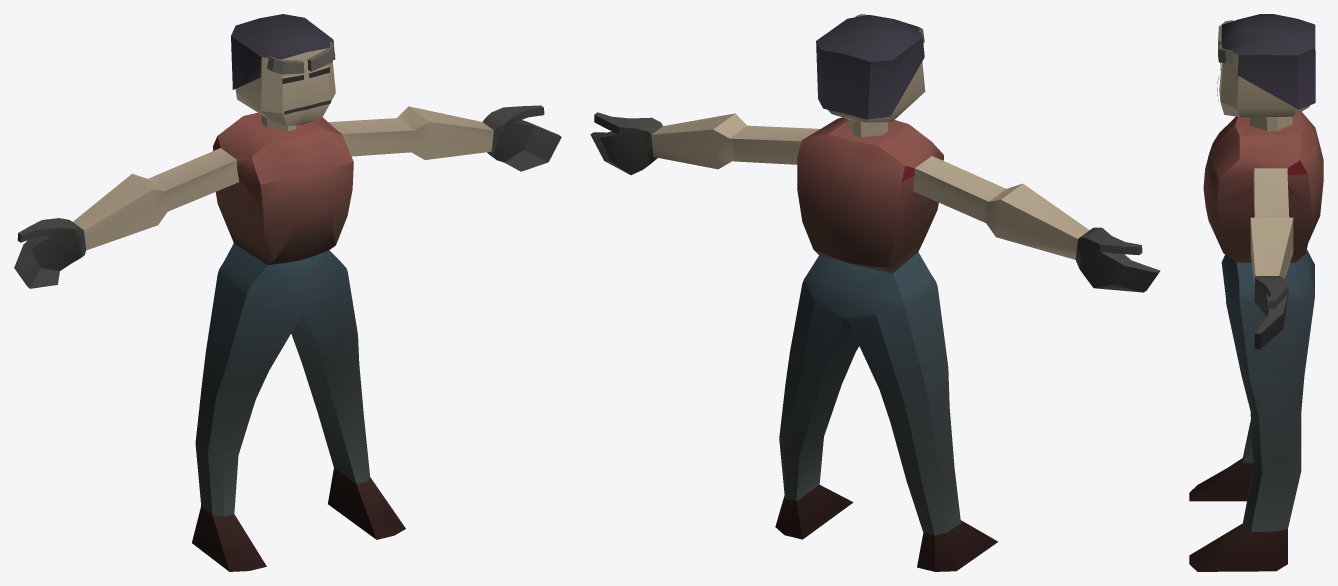
File: friend.fbx
3 views of the same model, side by side, from view 1: azimuth 30°, elevation 25°; view 2: azimuth 150°, elevation 25°; view 3: azimuth 270°, elevation 25° (orthographic). The views are drawn at different scales.
Visible parts, largest first — view 1: friend; view 2: friend; view 3: friend.
Part boxes in pixels (x1,y1,x2,y2): friend: (14, 14, 561, 571); friend: (590, 14, 1160, 571); friend: (1189, 14, 1323, 571).
Bounding box in the file's own units: 244 × 214 × 51.75.
